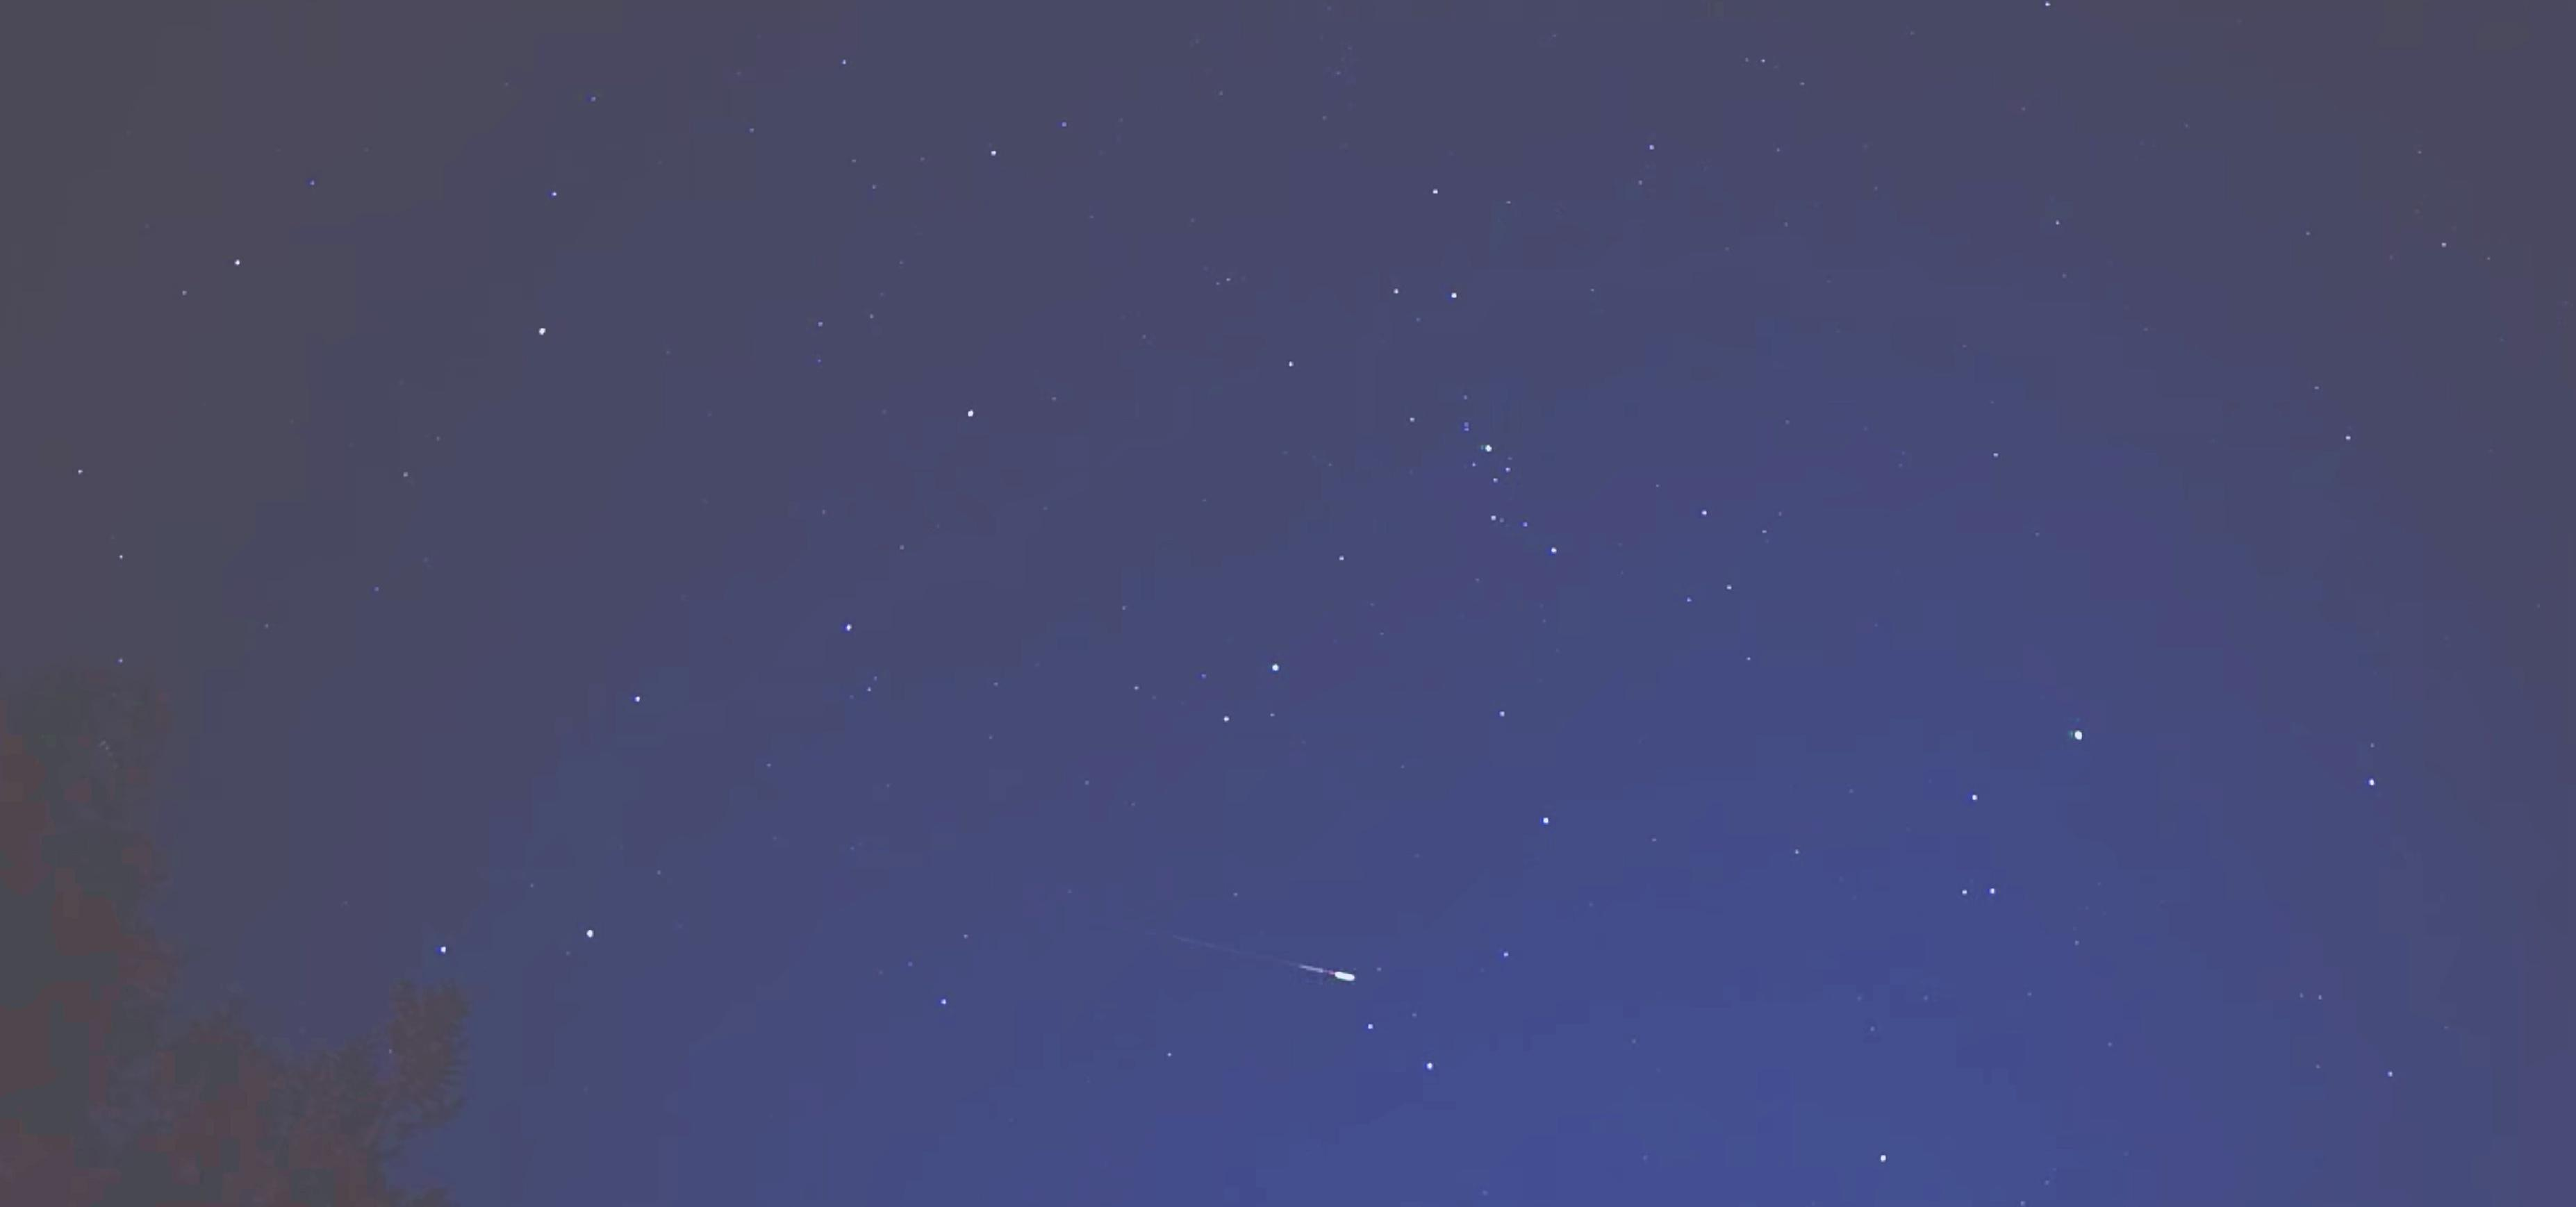meteorite: (1125, 916, 1395, 995)
